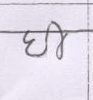i_matra: (49, 21, 68, 58)
